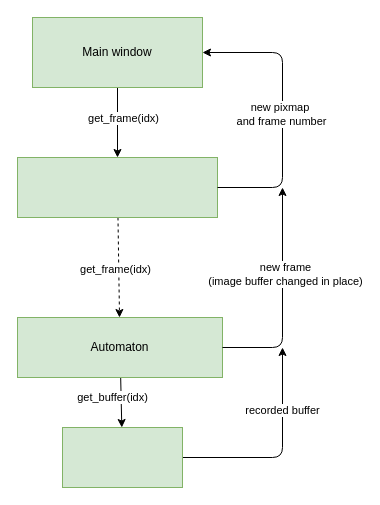
This 380x505 diagram has some shape labels left out. The centre of each missing label's shape, as x and y in pixels:
Frame recorder: point 122,457
Simulation Controller: point 117,187
